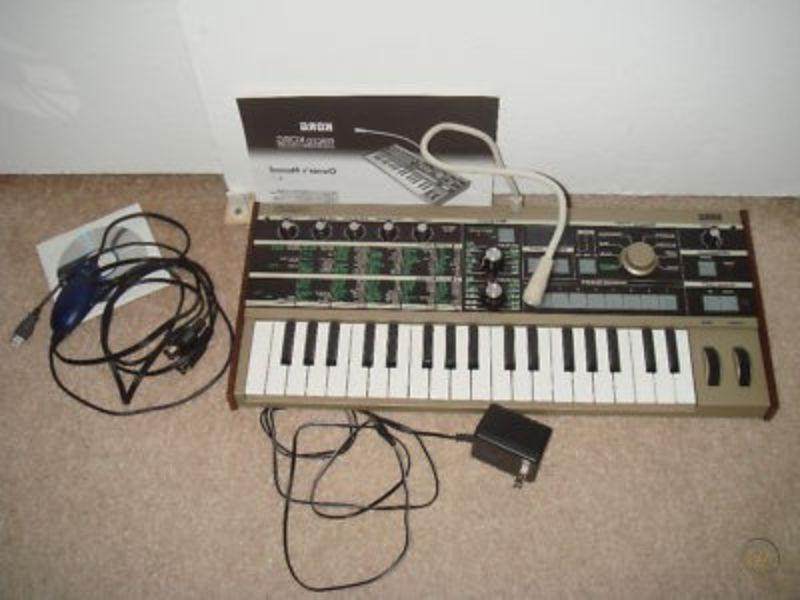synthesizer: (220, 193, 782, 423)
